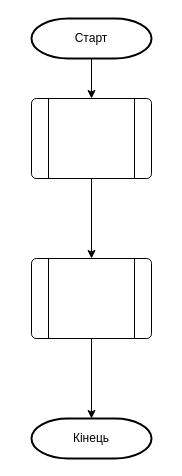
This 182x476 diagram has some shape labels left out. Here are the shapes that lost their labels. From the top down, the box of each, then its label:
(30, 98, 152, 178): firstTableGeneration()
(30, 258, 152, 338): secondTableGeneration(10)
